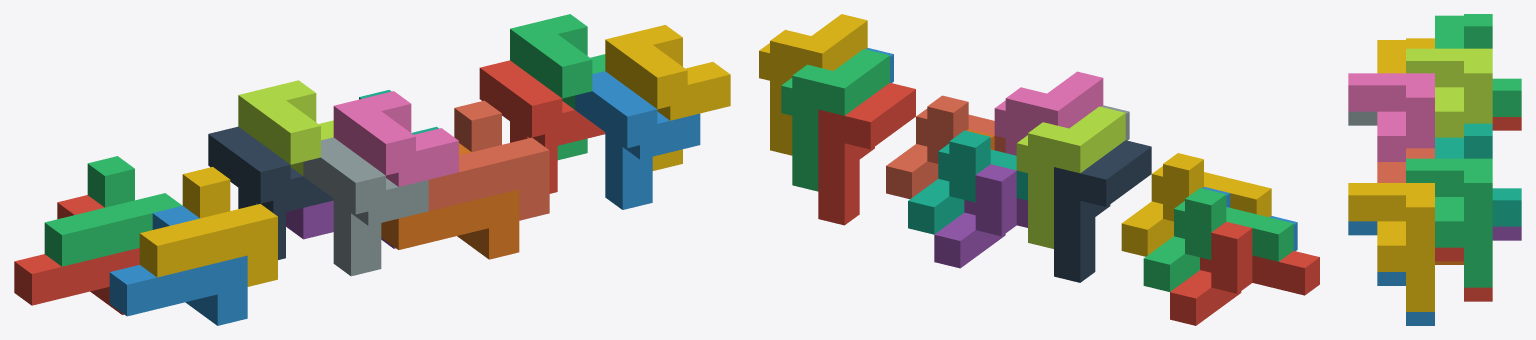
File: tiling.obj
The picture shows the model from 3 angles, left to right: view 1: azimuth 30°, elevation 25°; view 2: azimuth 150°, elevation 25°; view 3: azimuth 270°, elevation 25°; orthographic projection. The views are drawn at different scales.
Visible parts, largest first — view 1: copy_1_domain_4, copy_2_domain_2, copy_2_domain_6, copy_1_domain_8, copy_2_domain_8, copy_2_domain_4, copy_1_domain_3, copy_1_domain_2, copy_2_domain_5, copy_2_domain_1, copy_2_domain_7, copy_1_domain_6 (+3 smaller); view 2: copy_2_domain_5, copy_1_domain_1, copy_2_domain_1, copy_2_domain_7, copy_1_domain_3, copy_2_domain_3, copy_1_domain_4, copy_2_domain_8, copy_1_domain_7, copy_1_domain_5, copy_1_domain_8, copy_2_domain_4; view 3: copy_2_domain_8, copy_2_domain_7, copy_2_domain_4, copy_2_domain_3, copy_1_domain_3, copy_1_domain_7, copy_1_domain_4, copy_2_domain_6, copy_1_domain_8, copy_2_domain_5, copy_1_domain_5, copy_2_domain_2 (+1 smaller).
Boxes of the visible parts, bbox=[...] form: copy_1_domain_4: bbox=[139, 167, 277, 286]; copy_2_domain_2: bbox=[303, 137, 428, 276]; copy_2_domain_6: bbox=[575, 71, 700, 209]; copy_1_domain_8: bbox=[428, 100, 549, 220]; copy_2_domain_8: bbox=[605, 25, 730, 170]; copy_2_domain_4: bbox=[333, 91, 458, 186]; copy_1_domain_3: bbox=[44, 156, 182, 266]; copy_1_domain_2: bbox=[109, 205, 247, 325]; copy_2_domain_5: bbox=[479, 60, 605, 193]; copy_2_domain_1: bbox=[208, 126, 333, 259]; copy_2_domain_7: bbox=[510, 14, 605, 160]; copy_1_domain_6: bbox=[381, 143, 519, 259]; copy_2_domain_5: bbox=[818, 82, 915, 225]; copy_1_domain_1: bbox=[1170, 221, 1319, 325]; copy_2_domain_1: bbox=[1054, 140, 1151, 282]; copy_2_domain_7: bbox=[781, 49, 889, 191]; copy_1_domain_3: bbox=[1143, 188, 1293, 291]; copy_2_domain_3: bbox=[1016, 106, 1125, 248]; copy_1_domain_4: bbox=[1121, 153, 1271, 256]; copy_2_domain_8: bbox=[759, 14, 867, 155]; copy_1_domain_7: bbox=[908, 130, 1027, 234]; copy_1_domain_5: bbox=[934, 164, 1027, 268]; copy_1_domain_8: bbox=[886, 95, 1005, 199]; copy_2_domain_4: bbox=[994, 71, 1103, 155]; copy_2_domain_8: bbox=[1348, 183, 1434, 311]; copy_2_domain_7: bbox=[1406, 158, 1492, 287]; copy_2_domain_4: bbox=[1348, 73, 1434, 161]; copy_2_domain_3: bbox=[1406, 48, 1492, 137]; copy_1_domain_3: bbox=[1435, 14, 1521, 116]; copy_1_domain_7: bbox=[1435, 123, 1521, 226]; copy_1_domain_4: bbox=[1377, 38, 1434, 73]; copy_2_domain_6: bbox=[1348, 221, 1434, 325]; copy_1_domain_8: bbox=[1377, 148, 1434, 182]; copy_2_domain_5: bbox=[1435, 247, 1492, 301]; copy_1_domain_5: bbox=[1492, 226, 1521, 240]; copy_2_domain_2: bbox=[1348, 111, 1377, 125].
Bounding box in the file's own units: 22 × 5 × 6.
